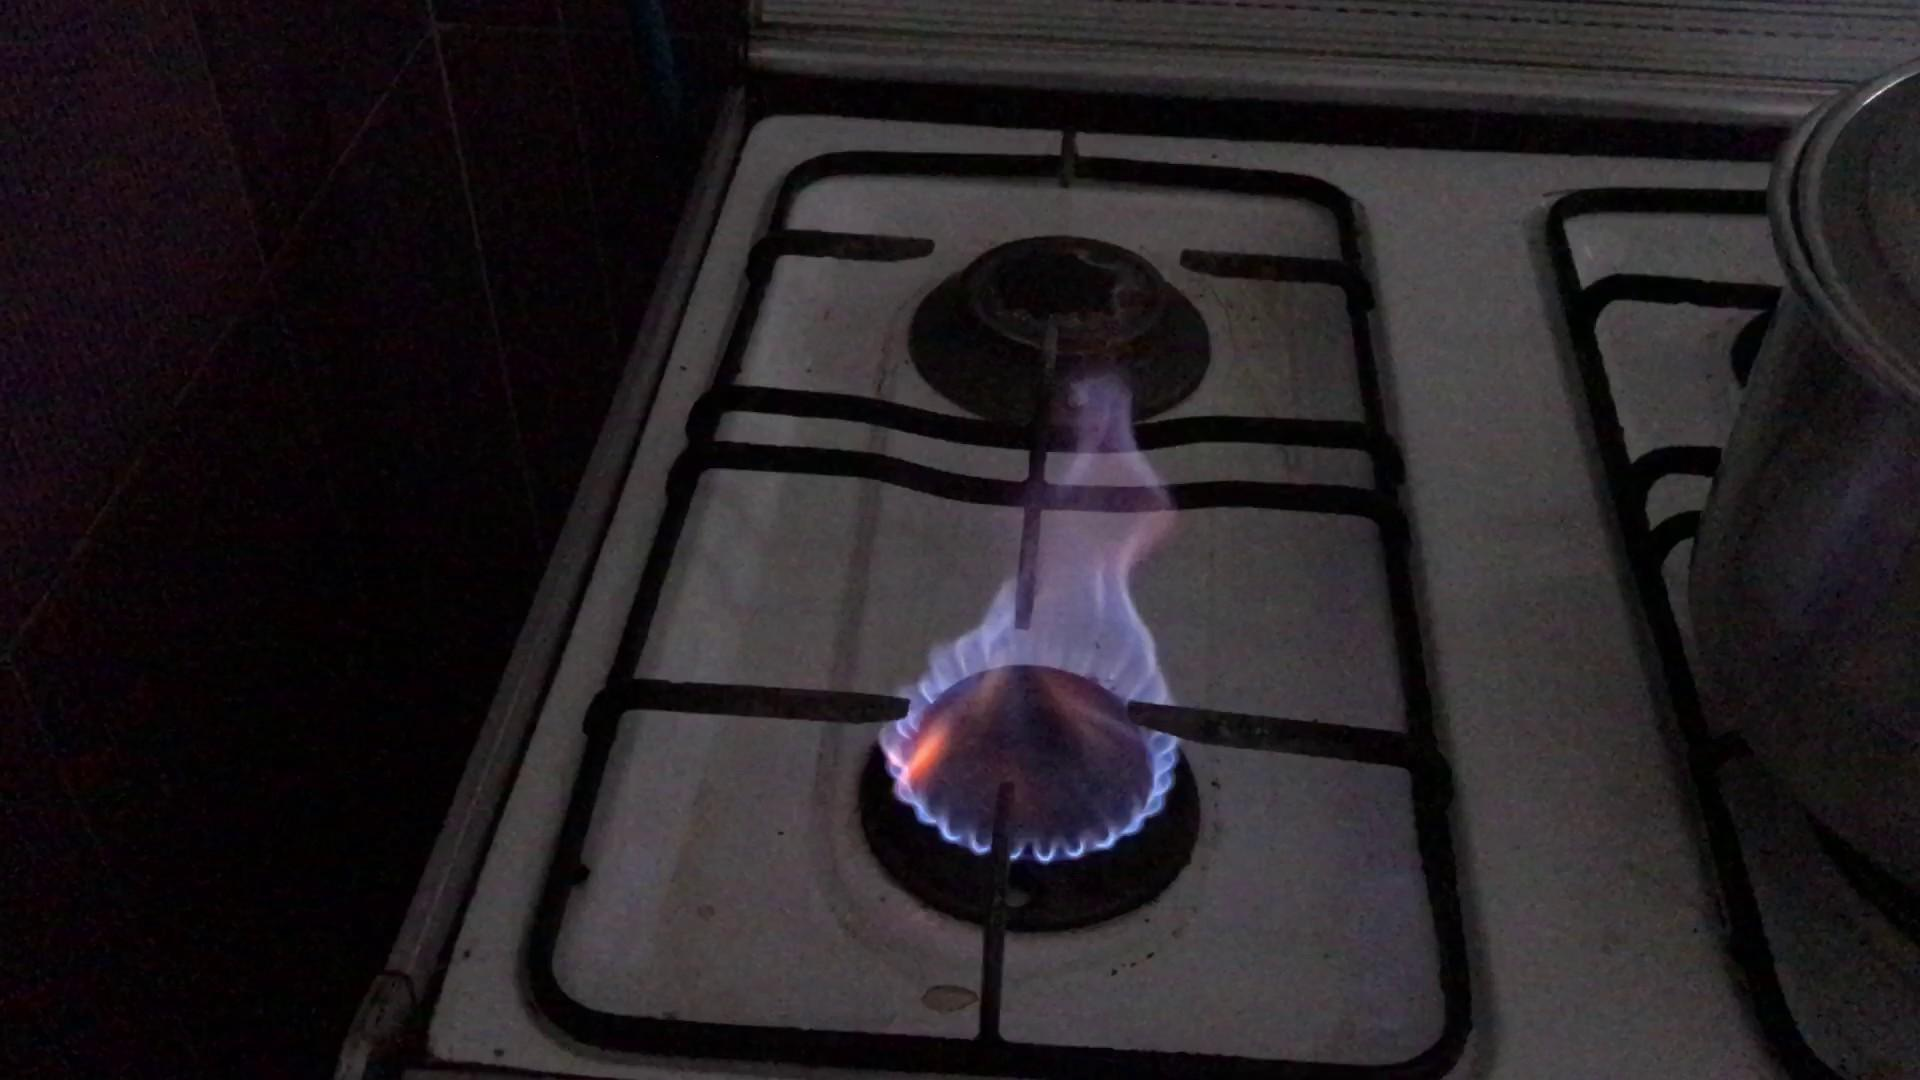fire: (870, 386, 1189, 874)
